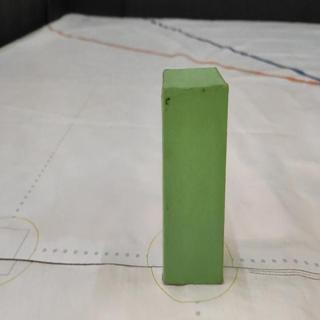greenbox: (161, 67, 231, 286)
